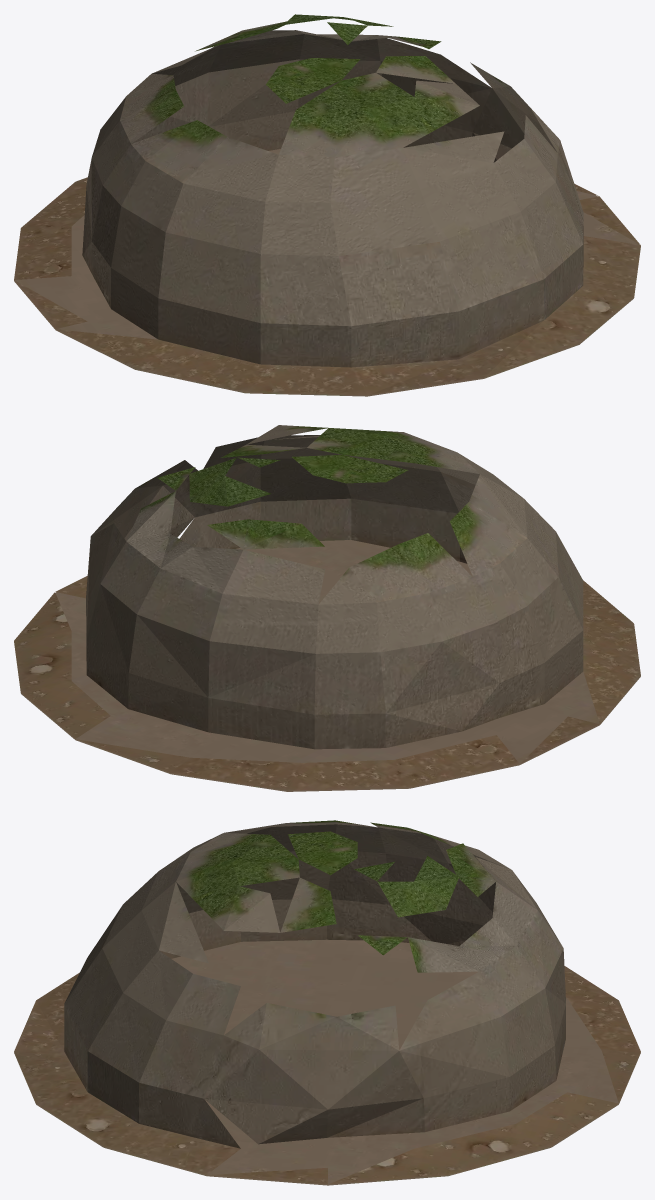
File: rock_single_LOD2.glb
3 views of the same model, one above another, from view 1: azimuth 30°, elevation 25°; view 2: azimuth 150°, elevation 25°; view 3: azimuth 270°, elevation 25° (orthographic).
Parts seen in each view (by area): view 1: rock_single_LOD2; view 2: rock_single_LOD2; view 3: rock_single_LOD2.
Boxes of the visible parts, box(x1,y1,x2,y2) form: rock_single_LOD2: box(14, 14, 640, 396); rock_single_LOD2: box(14, 425, 640, 791); rock_single_LOD2: box(14, 820, 640, 1185).
Size of the model in its own units: 0.9993 by 0.3657 by 0.9993.
Materials: 1 (1 with a texture image).
